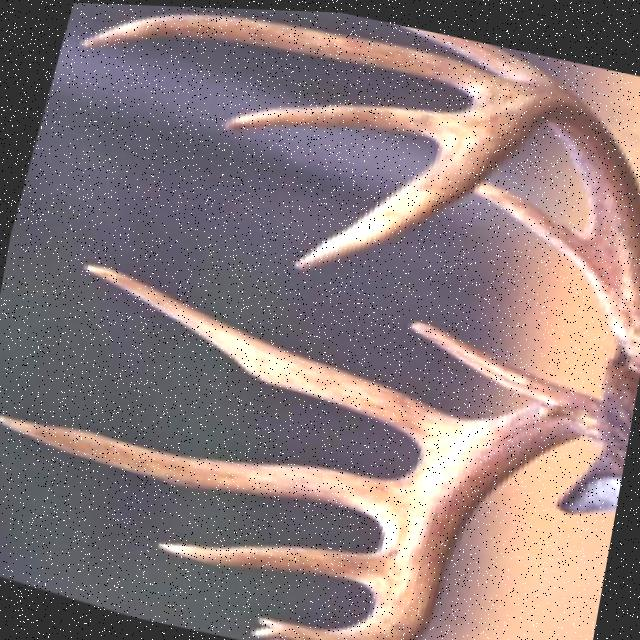L-F: (286, 82, 640, 366)
L-G1: (475, 178, 592, 268)
L-G2: (394, 19, 568, 84)
L-G3: (76, 9, 508, 91)
L-G4: (218, 101, 460, 139)
R-F: (246, 389, 604, 640)
R-G1: (407, 316, 581, 399)
R-G2: (78, 262, 471, 443)
R-G3: (0, 413, 398, 520)
R-G4: (151, 539, 380, 585)
